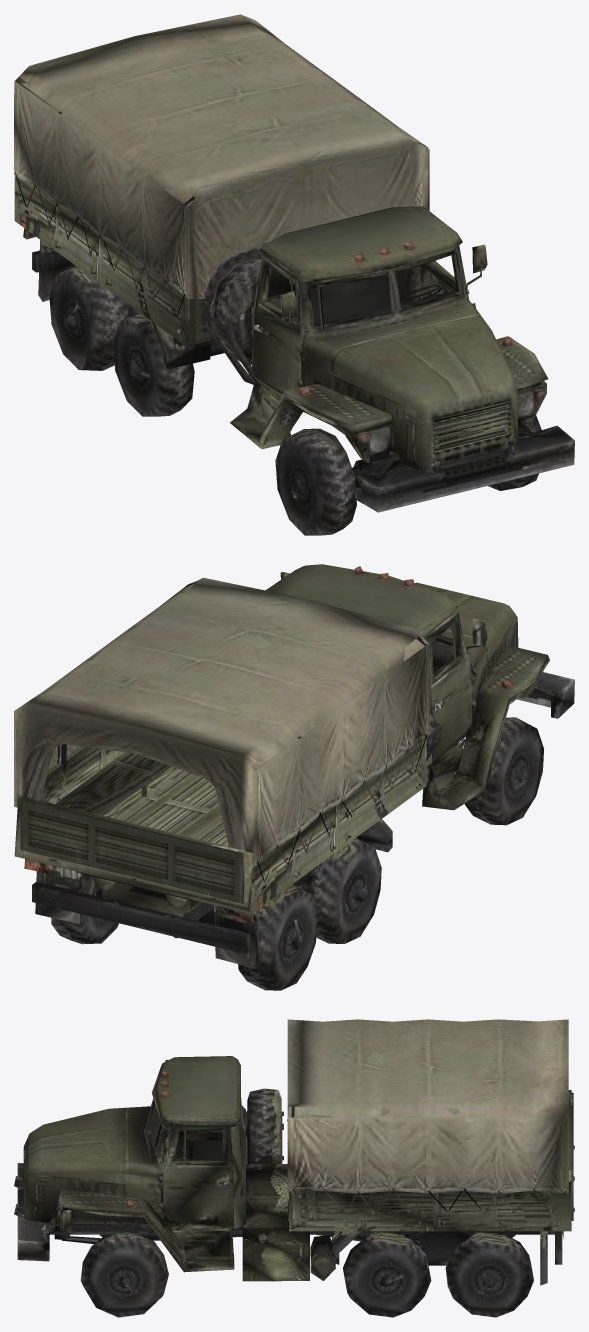
The model's file is realistic-by.76880fe3d732.freight.glb.
3 renders of one model, top to bottom at view 1: azimuth 30°, elevation 25°; view 2: azimuth 150°, elevation 25°; view 3: azimuth 270°, elevation 25°, orthographic. The views are drawn at different scales.
Parts seen in each view (by area): view 1: freight; view 2: freight; view 3: freight.
Part boxes in pixels (<box>): freight: <box>14,14,574,535</box>; freight: <box>14,564,574,990</box>; freight: <box>14,1019,574,1317</box>.
Size of the model in its own units: 2.99 by 3.2 by 7.4.
1 material, 1 textured.
